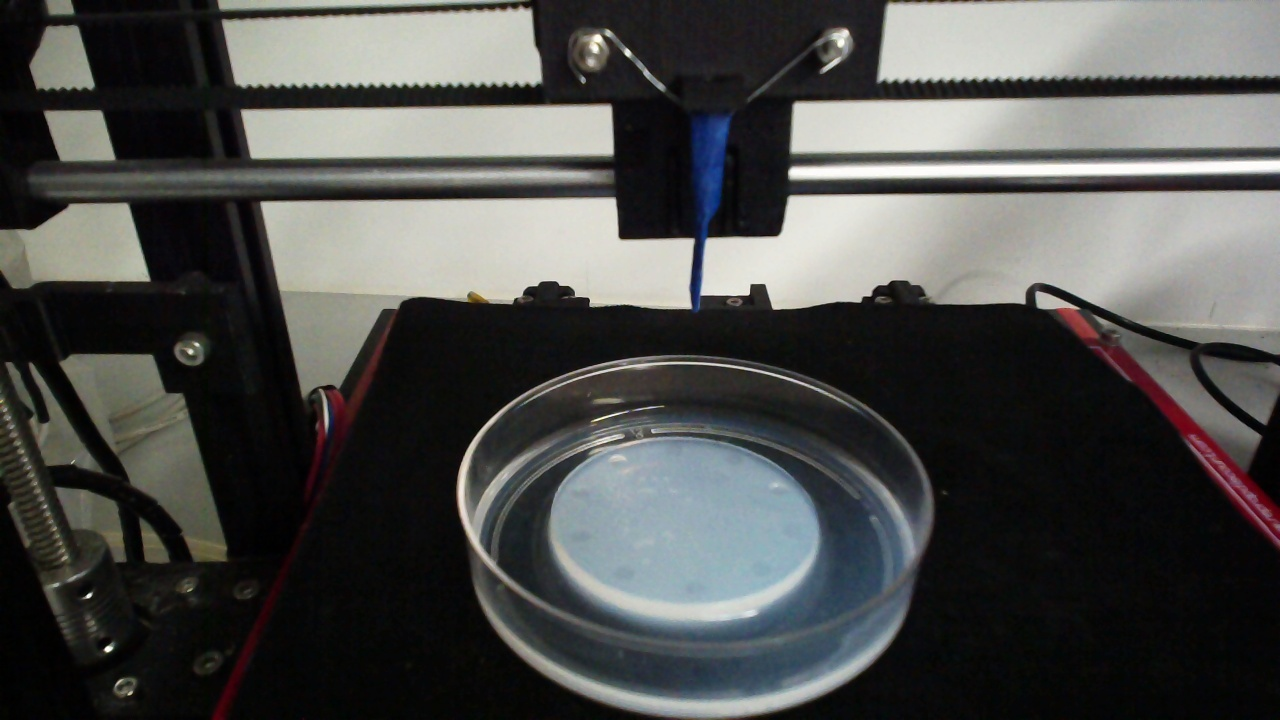groove: (609, 561, 637, 581), (779, 520, 805, 540), (749, 560, 774, 579), (681, 579, 708, 596), (766, 480, 790, 498), (567, 529, 592, 545), (567, 484, 590, 500), (722, 450, 745, 466), (662, 443, 684, 459), (607, 454, 628, 469)
needle: (688, 114, 730, 311)
